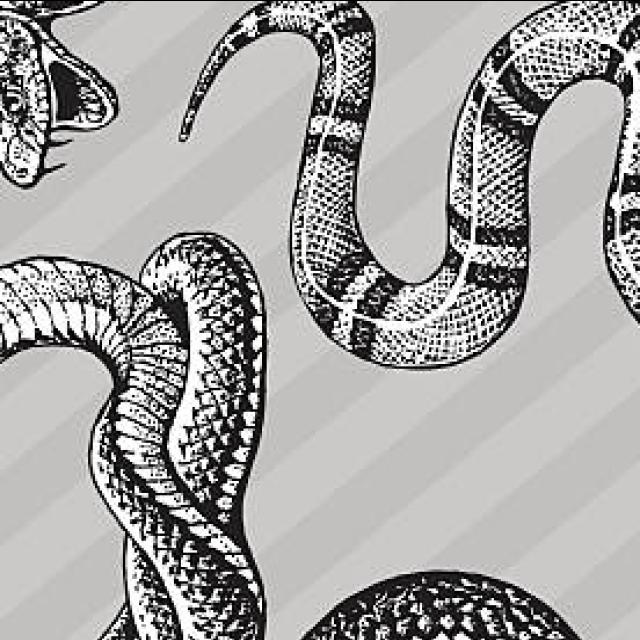Snake: (174, 0, 640, 365), (0, 227, 269, 640), (215, 382, 640, 640)
